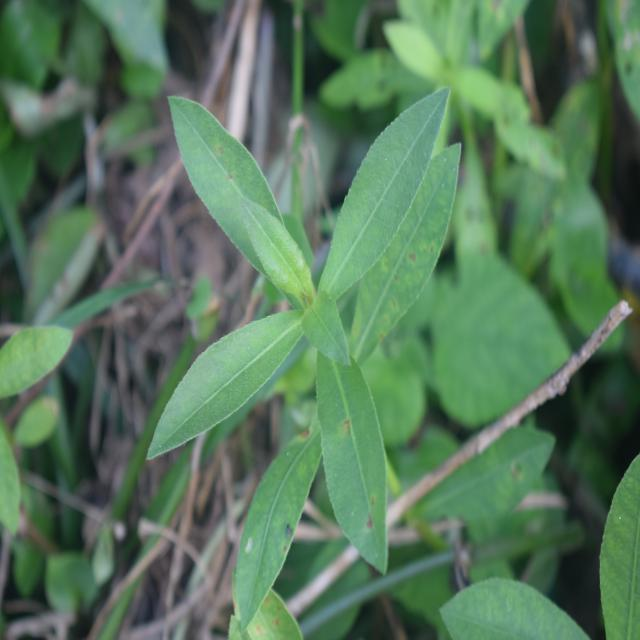Alligatorweed: (166, 38, 450, 586)
